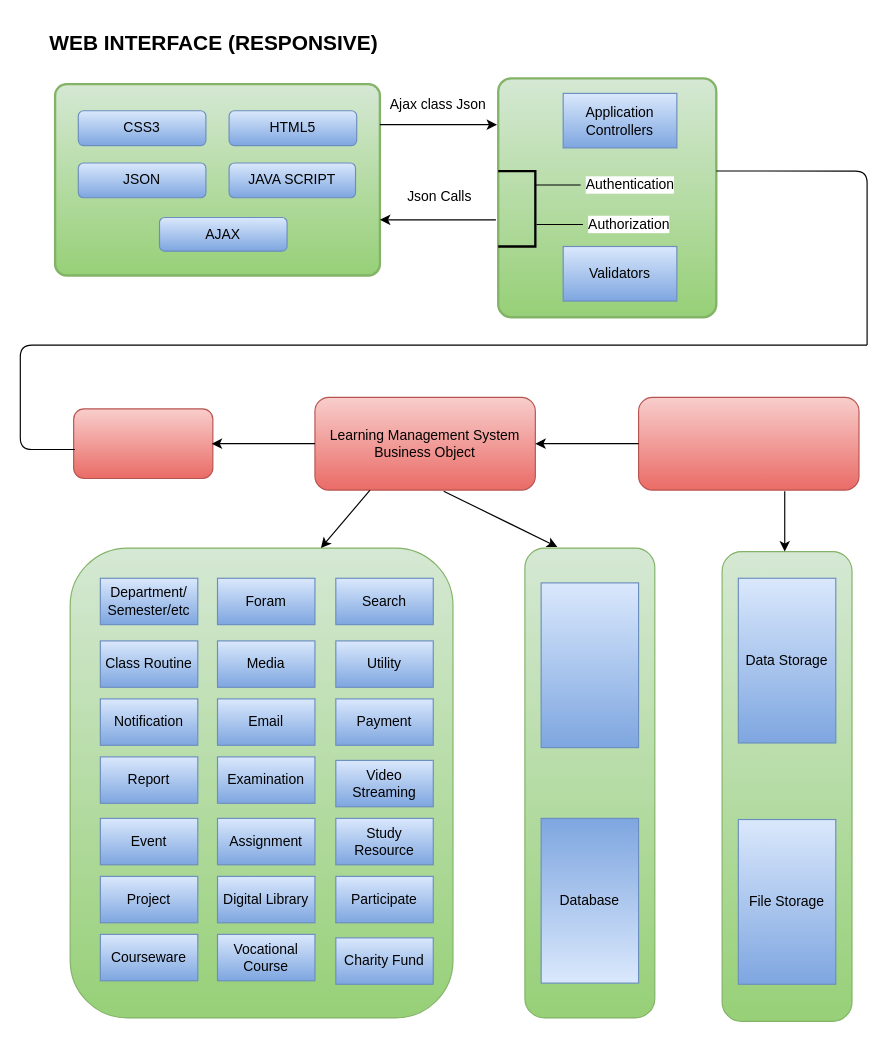
This 889x1042 diagram has some shape labels left out. Here are the shapes that lost their labels. From the top down, the centre of each, then its label:
At (x=142, y=443): "Controllers".
At (x=748, y=443): "Learning Management System Datasource Object".
At (x=589, y=665): "File System".
